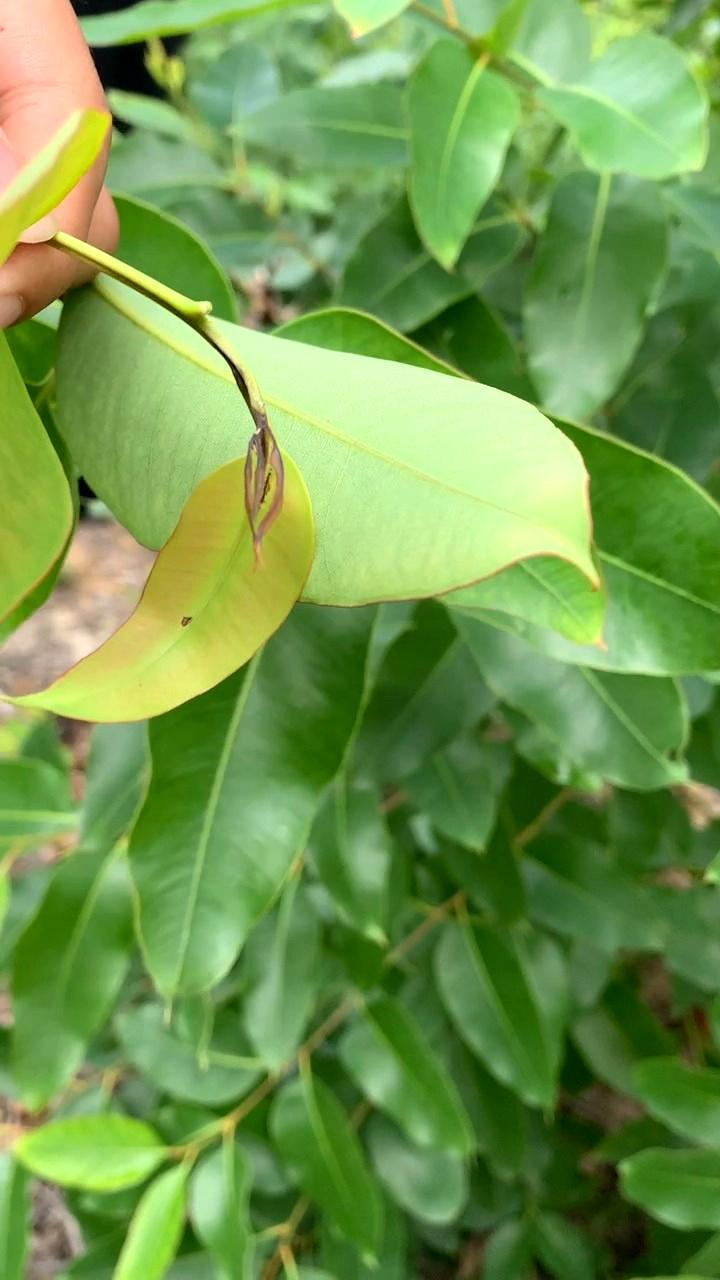Helopeltis-Withered Sprout: (223, 388, 301, 574)
